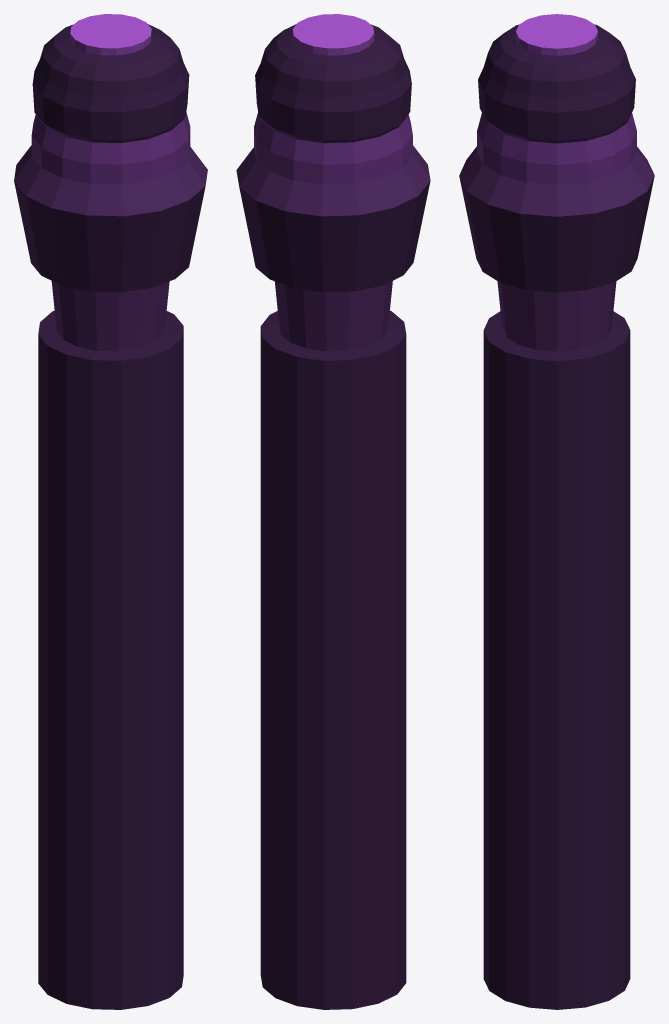
Rendered from centerObject.fbx.
The picture shows the model from 3 angles, left to right: view 1: azimuth 30°, elevation 25°; view 2: azimuth 150°, elevation 25°; view 3: azimuth 270°, elevation 25°; orthographic projection.
Visible parts, largest first — view 1: centerHere; view 2: centerHere; view 3: centerHere.
Part boxes in pixels (x1,y1,x2,y2): centerHere: [14, 14, 207, 1009]; centerHere: [236, 14, 430, 1009]; centerHere: [459, 14, 654, 1009].
Size of the model in its own units: 38.26 by 204 by 38.26.
